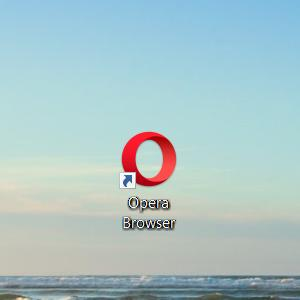opera: (119, 132, 176, 189)
